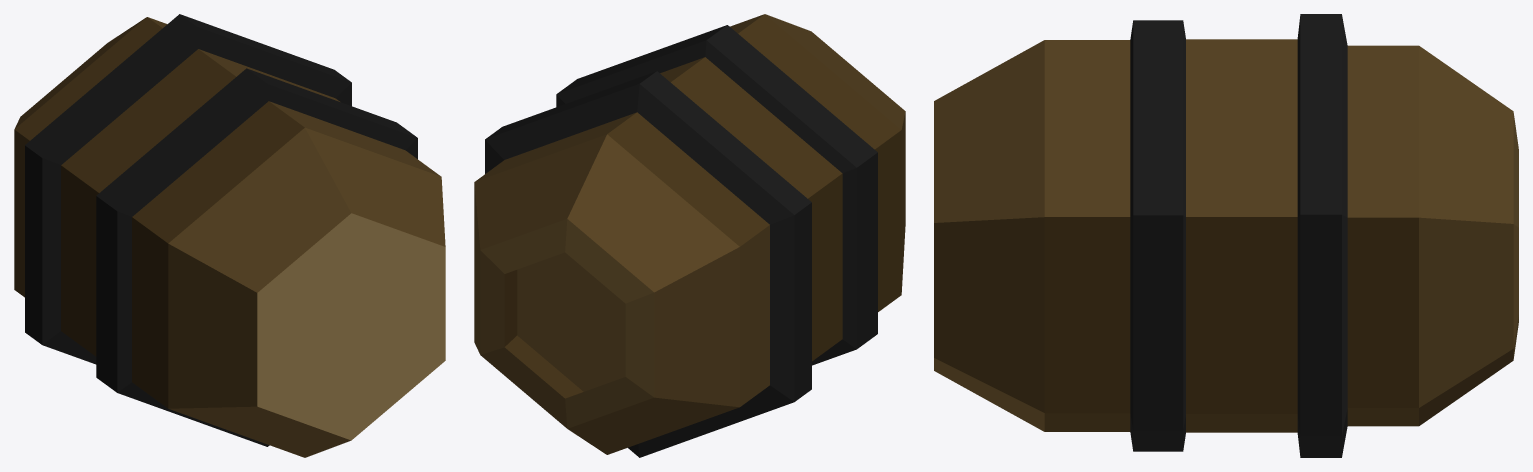
Rendered from desert_box.fbx.
3 renders of one model, left to right at view 1: azimuth 30°, elevation 25°; view 2: azimuth 150°, elevation 25°; view 3: azimuth 270°, elevation 25°, orthographic. The views are drawn at different scales.
Parts seen in each view (by area): view 1: desert_box; view 2: desert_box; view 3: desert_box.
Boxes of the visible parts, left/top/right/bottom form: desert_box: left=14, top=14, right=445, bottom=457; desert_box: left=474, top=14, right=905, bottom=457; desert_box: left=934, top=14, right=1518, bottom=457.
Bounding box in the file's own units: 50.51 × 58.32 × 69.62.
